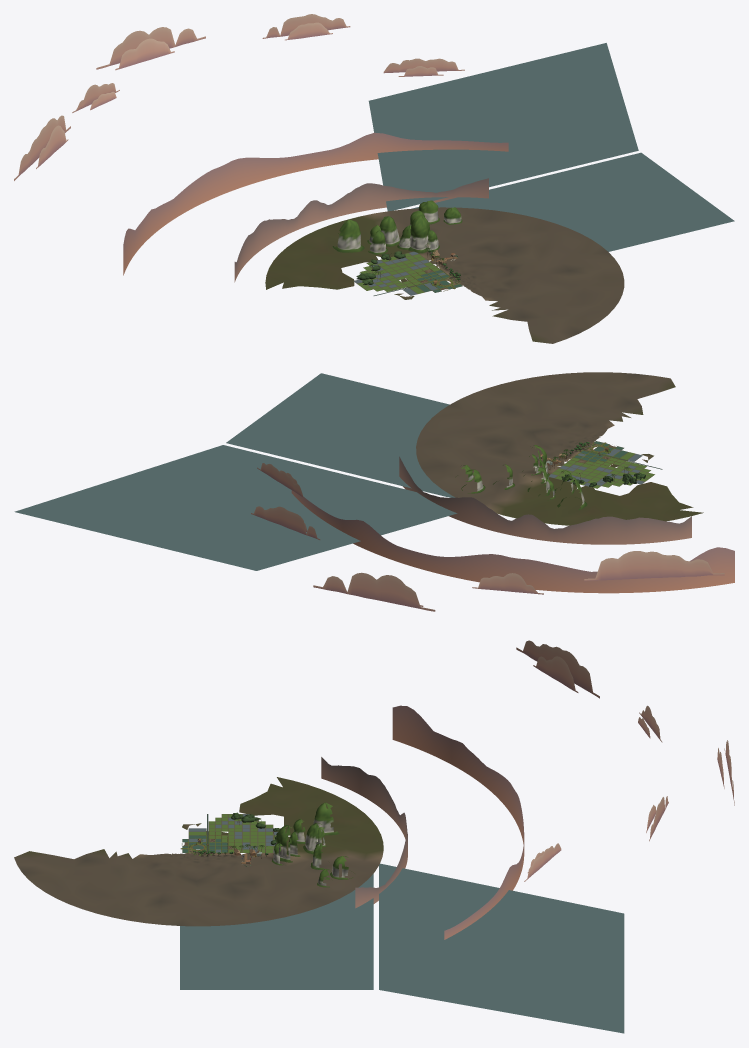
The model's file is arena_perlis.glb.
The picture shows the model from 3 angles, top to bottom: view 1: azimuth 30°, elevation 25°; view 2: azimuth 150°, elevation 25°; view 3: azimuth 270°, elevation 25°; orthographic projection. The views are drawn at different scales.
Visible parts, largest first — view 1: EnvFar_MatWater_paddy, EnvFar_MatGround_bund, EnvFar_MatSky_backdrop, EnvFar_MatRock_lime; view 2: EnvFar_MatWater_paddy, EnvFar_MatGround_bund, EnvFar_MatSky_backdrop, EnvFar_MatRock_lime, EnvBattle_MatWater_paddy, EnvFar_MatLeaf_canopy; view 3: EnvFar_MatWater_paddy, EnvFar_MatGround_bund, EnvFar_MatSky_backdrop, EnvFar_MatRock_lime.
Part boxes in pixels (x1,y1,x2,y2): EnvFar_MatWater_paddy: (353, 43, 734, 295); EnvFar_MatGround_bund: (265, 207, 624, 343); EnvFar_MatSky_backdrop: (14, 14, 508, 282); EnvFar_MatRock_lime: (332, 200, 462, 254); EnvFar_MatWater_paddy: (14, 373, 662, 570); EnvFar_MatGround_bund: (416, 372, 703, 525); EnvFar_MatSky_backdrop: (251, 456, 734, 611); EnvFar_MatRock_lime: (455, 445, 587, 510); EnvBattle_MatWater_paddy: (574, 440, 628, 462); EnvFar_MatLeaf_canopy: (549, 449, 645, 487); EnvFar_MatWater_paddy: (180, 814, 624, 1033); EnvFar_MatGround_bund: (14, 777, 383, 926); EnvFar_MatSky_backdrop: (321, 640, 734, 939); EnvFar_MatRock_lime: (272, 802, 354, 887).
Size of the model in its own units: 596 by 80.53 by 558.
